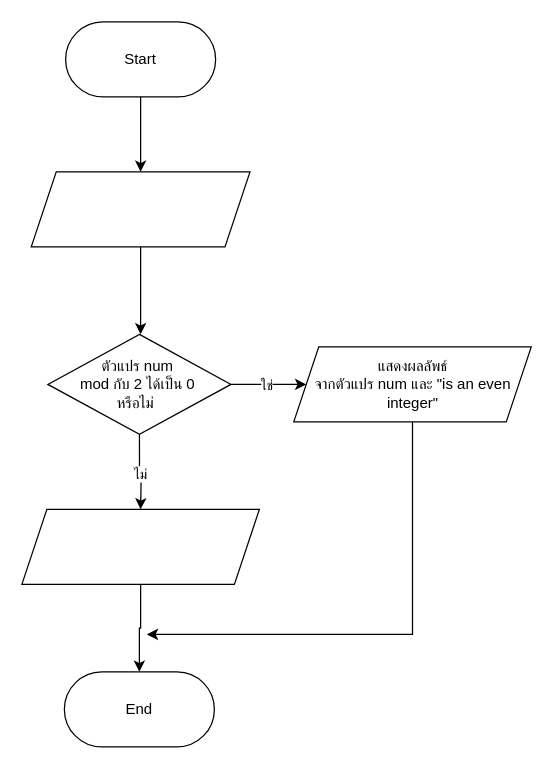
This 554x769 diagram has some shape labels left out. The shapes that lost their labels are listed below. From the top down, each one's centre as x and y in pixels, then its label:
(140,209): รับค่า Input จาก User และเก็บค่าลงใน num
(140,546): แสดงผลลัพธ์ จากตัวแปร num และ "is an odd integer"
